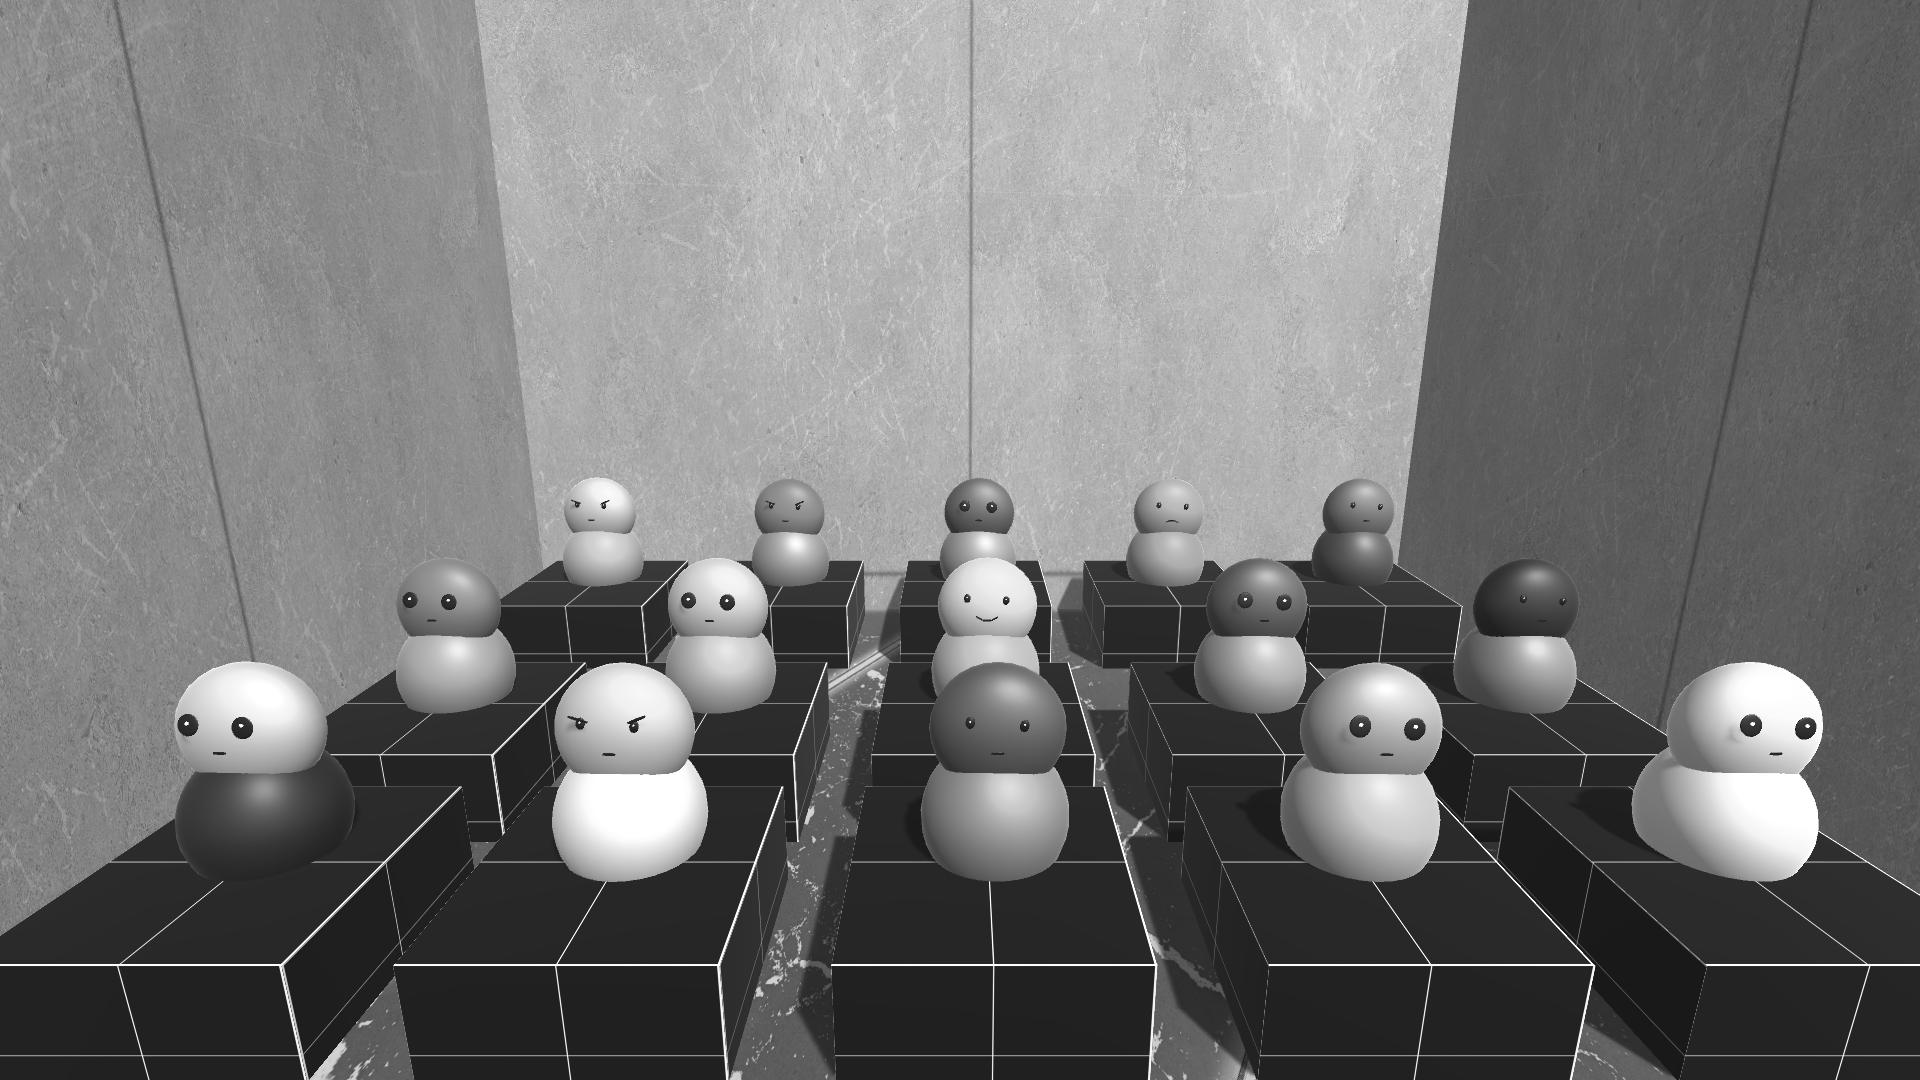blob_atento: (169, 657, 344, 781), (1662, 654, 1832, 779), (1292, 657, 1452, 777), (386, 564, 512, 644), (667, 555, 771, 642), (1204, 559, 1308, 644), (938, 479, 1023, 529)
blob_feliz: (934, 556, 1042, 638)
blob_normal: (927, 657, 1075, 779), (1470, 551, 1582, 647), (1320, 475, 1400, 538)
blob_raiva: (550, 655, 700, 789), (558, 475, 636, 531), (754, 475, 823, 534)
blob_triste: (1134, 476, 1205, 541)
